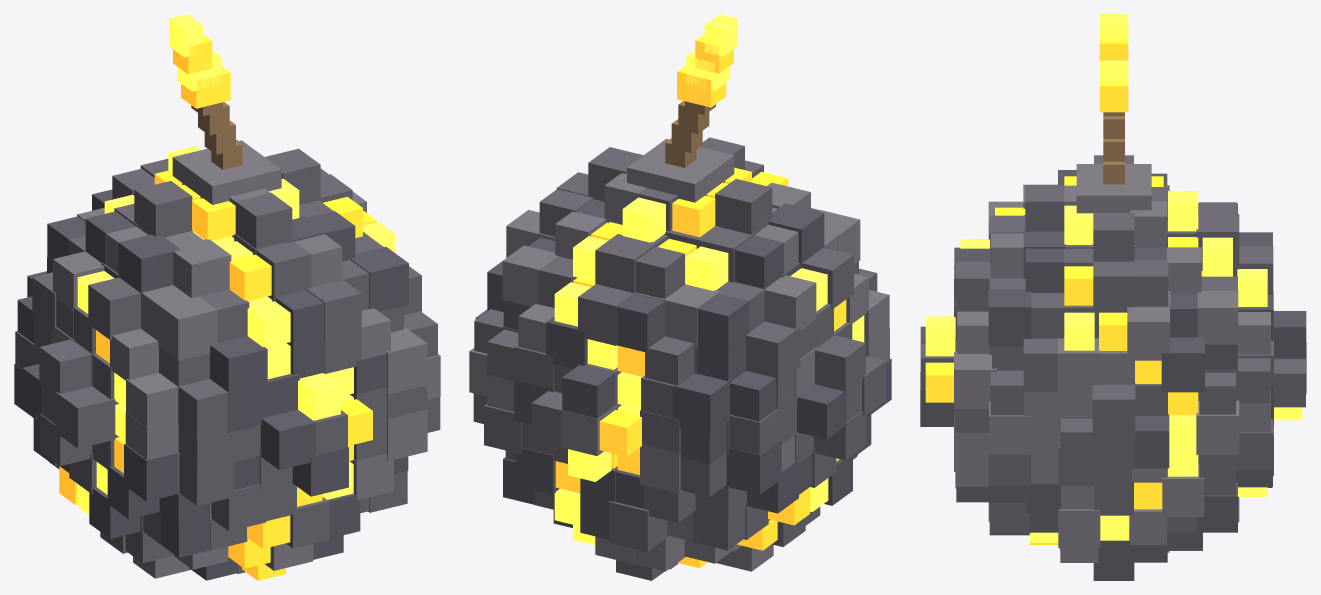
The model's file is magma_bomb.glb.
3 views of the same model, side by side, from view 1: azimuth 30°, elevation 25°; view 2: azimuth 150°, elevation 25°; view 3: azimuth 270°, elevation 25° (orthographic). The views are drawn at different scales.
Visible parts, largest first — view 1: stone, stone3, stone2, lava, hot, fuse; view 2: stone, stone3, stone2, hot, lava, fuse; view 3: stone, stone2, stone3, hot, lava, fuse.
Part boxes in pixels (left/top/right/bottom): stone: left=15, top=148, right=440, bottom=573; stone3: left=14, top=189, right=408, bottom=580; stone2: left=51, top=140, right=440, bottom=578; lava: left=59, top=34, right=376, bottom=580; hot: left=77, top=14, right=394, bottom=514; fuse: left=191, top=102, right=242, bottom=169; stone: left=473, top=137, right=886, bottom=580; stone3: left=475, top=199, right=891, bottom=539; stone2: left=469, top=138, right=889, bottom=571; hot: left=554, top=14, right=864, bottom=545; lava: left=555, top=34, right=846, bottom=568; fuse: left=665, top=101, right=715, bottom=167; stone: left=921, top=155, right=1305, bottom=552; stone2: left=954, top=164, right=1306, bottom=562; stone3: left=920, top=170, right=1306, bottom=580; hot: left=925, top=14, right=1302, bottom=542; lava: left=925, top=39, right=1202, bottom=544; fuse: left=1103, top=112, right=1124, bottom=184.
Bounding box in the file's own units: 1.35 × 1.94 × 1.34.
